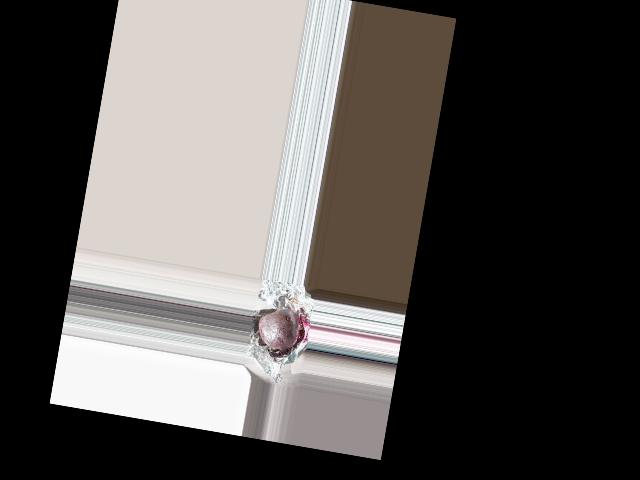beet: (255, 304, 300, 352)
